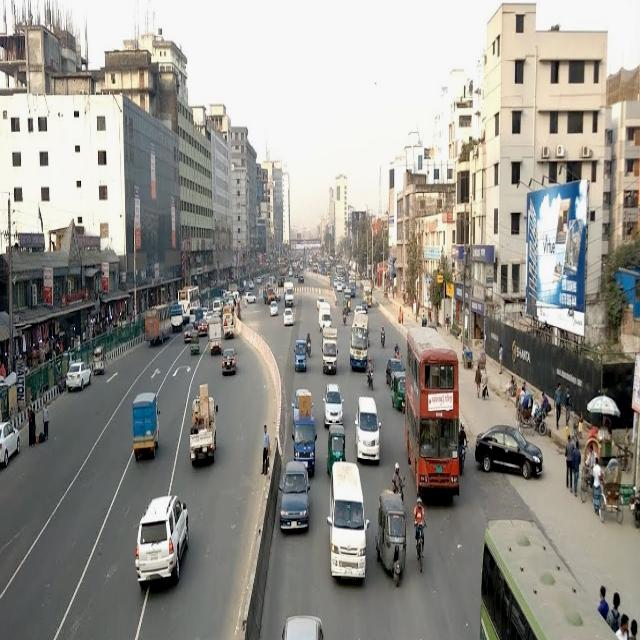black: (474, 424, 542, 489), (279, 462, 309, 534), (385, 360, 405, 390)
silver: (324, 382, 344, 432)
white: (134, 496, 190, 588), (327, 461, 367, 586), (356, 395, 380, 467), (0, 422, 19, 469), (66, 362, 92, 393), (282, 308, 294, 328), (244, 292, 256, 307), (269, 301, 278, 319)
